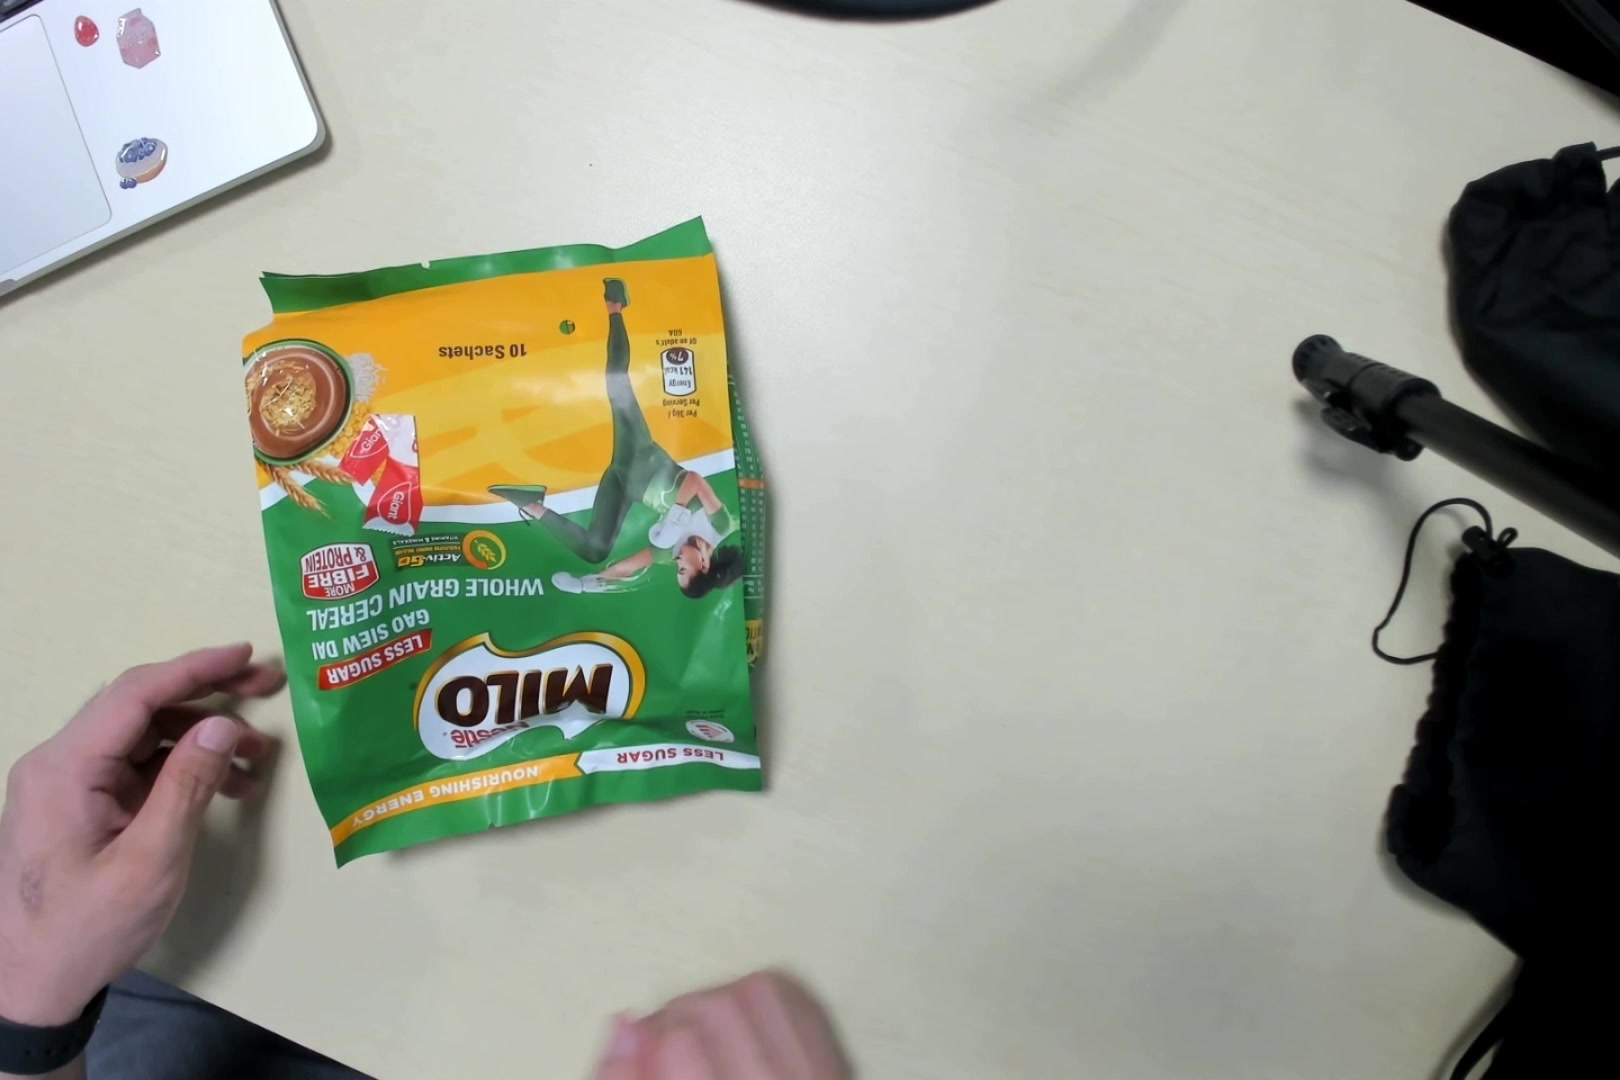ChocolateMaltPowder_300-399g_NonHalal_NonHealthy: (233, 254, 787, 853)
